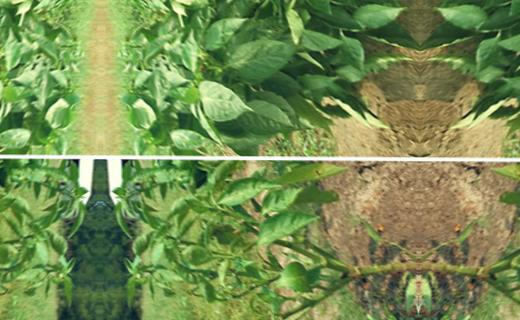Tomato leaf bacterial spot: (218, 38, 293, 91), (193, 81, 255, 125), (254, 207, 322, 247), (265, 163, 347, 196), (208, 174, 279, 208), (202, 15, 254, 54), (289, 27, 346, 57), (346, 4, 406, 32), (275, 262, 322, 293), (334, 30, 369, 71), (153, 239, 167, 270)
